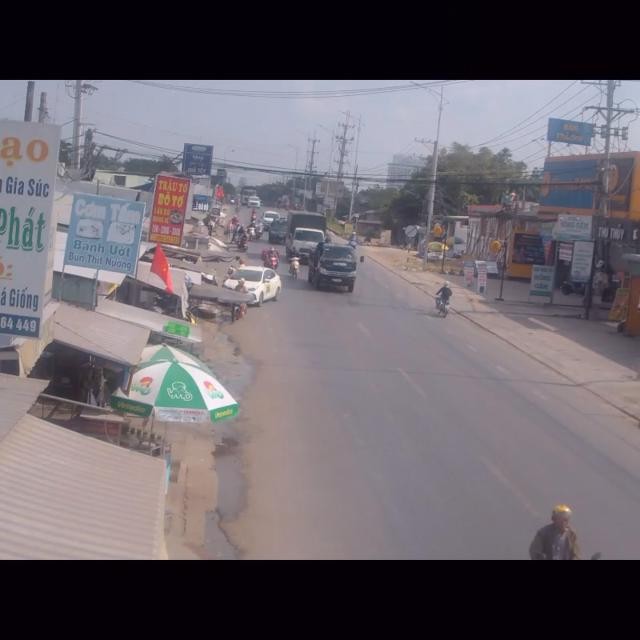motorbike: (530, 507, 596, 560), (434, 277, 449, 318)
truck: (307, 243, 360, 294)
